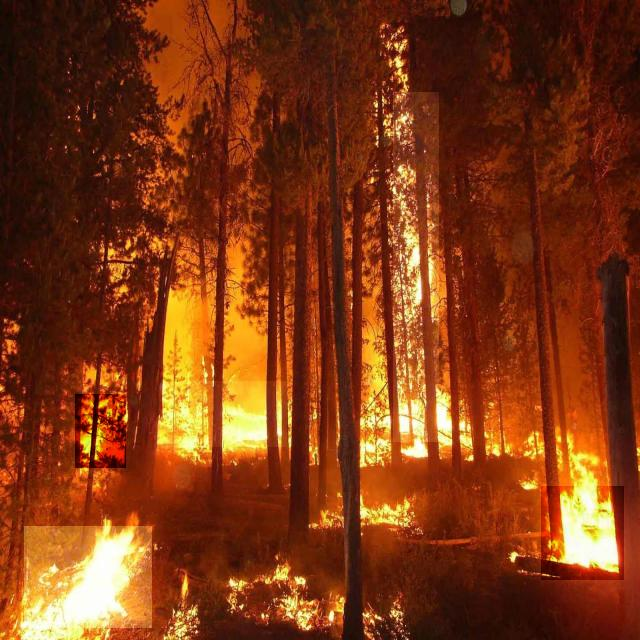Fire: (393, 92, 439, 442), (24, 526, 152, 628), (167, 381, 287, 447), (541, 486, 624, 580), (75, 394, 126, 468)
